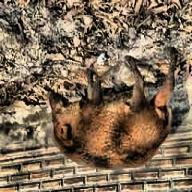boar: (47, 48, 180, 171)
